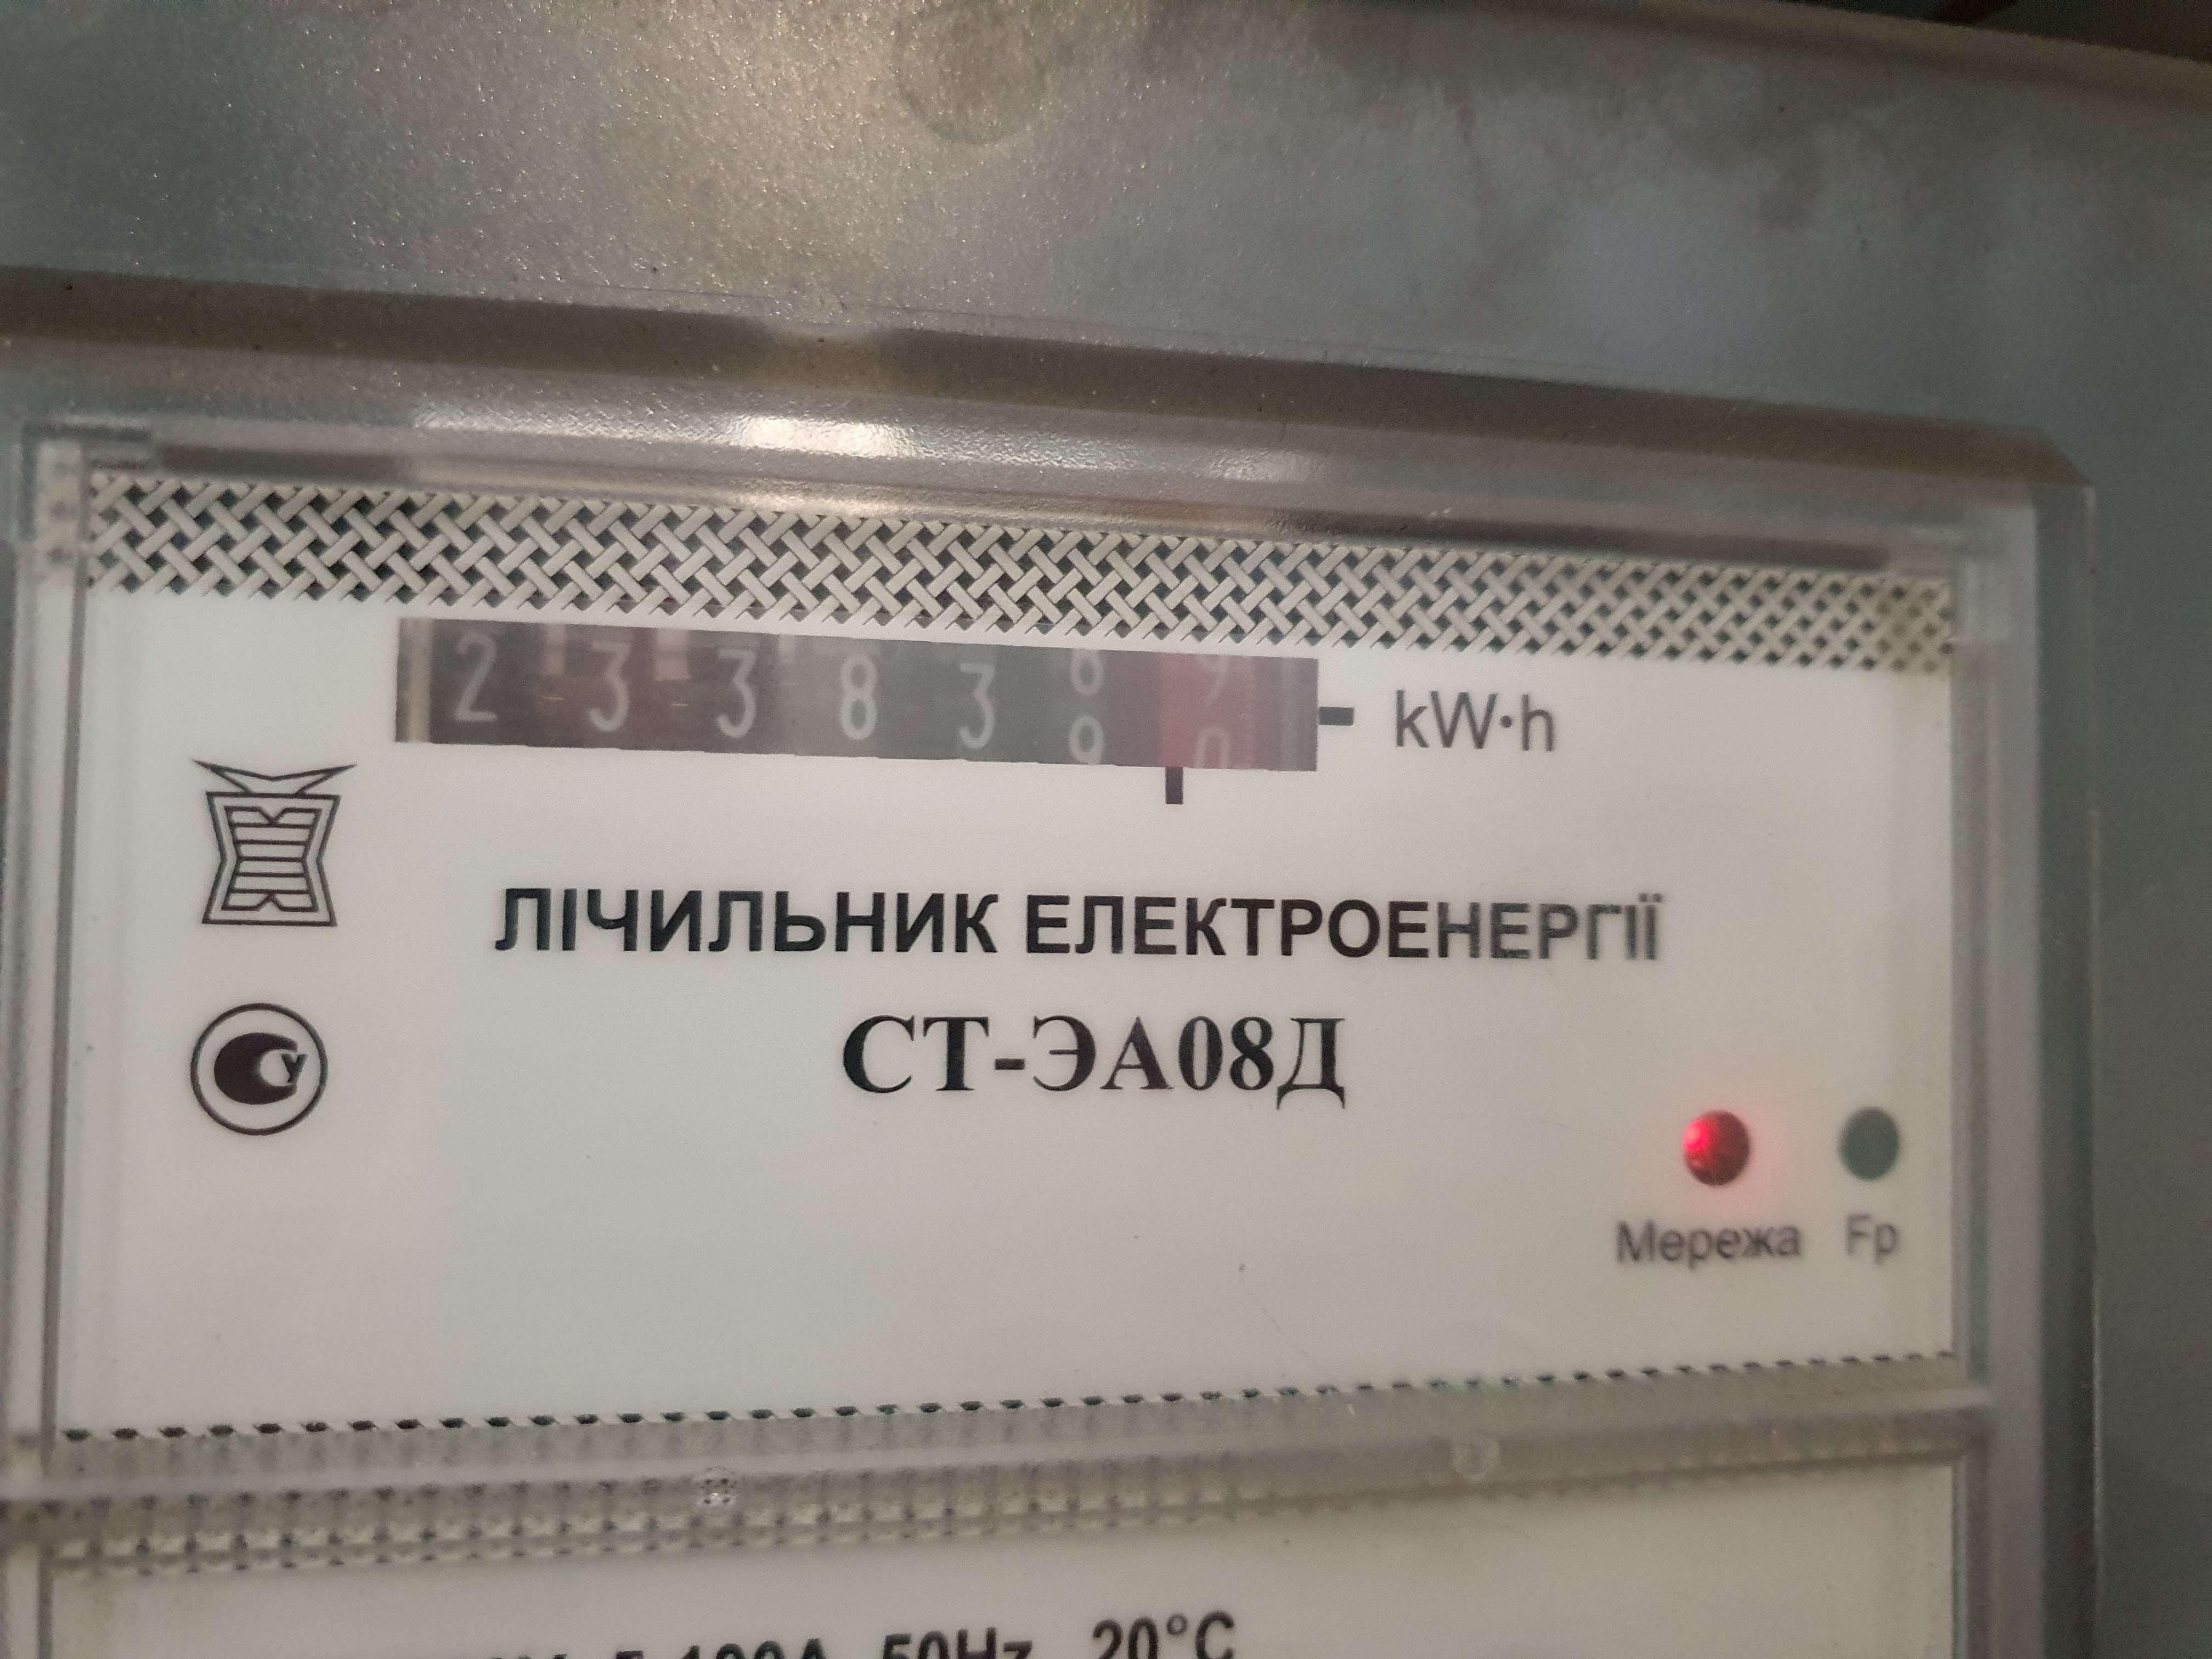0: (1191, 721, 1235, 781)
2: (444, 626, 510, 730)
3: (704, 638, 766, 748), (954, 653, 1003, 751), (585, 634, 632, 735)
8: (829, 645, 887, 746), (1066, 643, 1111, 697)
9: (1188, 647, 1240, 713), (1064, 709, 1113, 772)
screen: (345, 580, 1371, 850)
